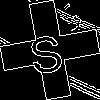S: (25, 25, 66, 76)
